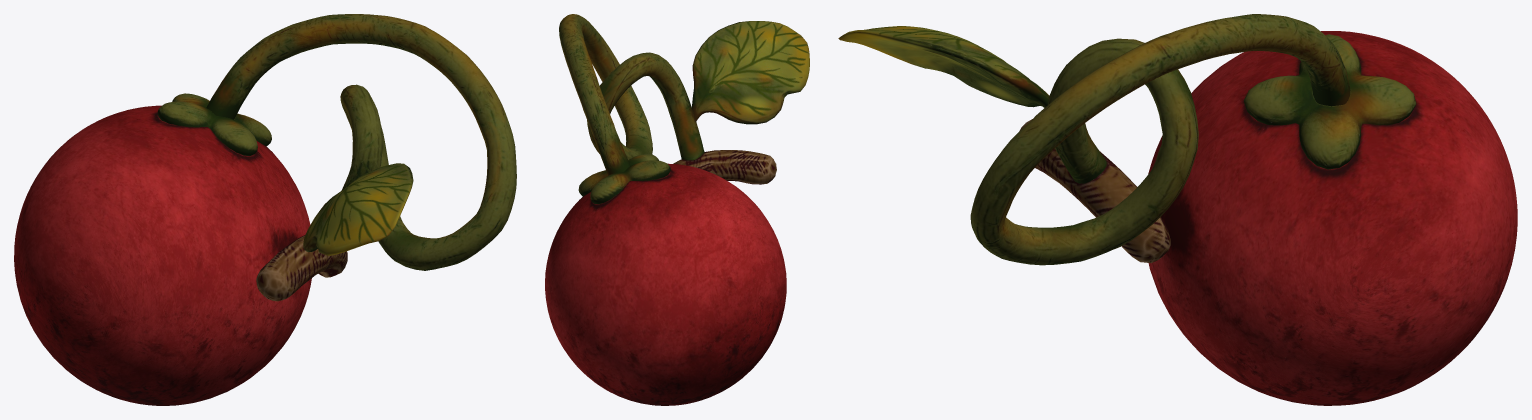
The model's file is berry.glb.
3 views of the same model, side by side, from view 1: azimuth 30°, elevation 25°; view 2: azimuth 150°, elevation 25°; view 3: azimuth 270°, elevation 25° (orthographic). The views are drawn at different scales.
Parts seen in each view (by area): view 1: g (×5); view 2: g (×5); view 3: g (×5).
Boxes of the visible parts, x1,y1,x2,y2 form: g (×5): [14, 14, 516, 405]; g (×5): [545, 14, 809, 405]; g (×5): [838, 14, 1517, 405].
Bounding box in the file's own units: 1.51 × 1.51 × 2.
Materials: 1 (1 with a texture image).
